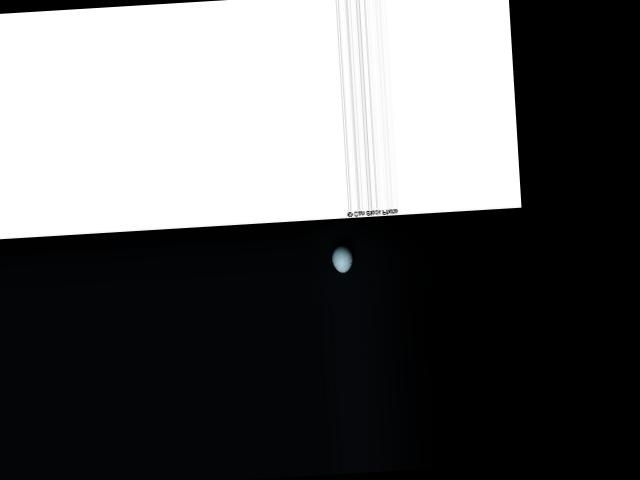egg: (331, 244, 353, 273)
